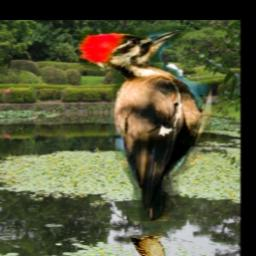Sparrow: (130, 233, 168, 256)
Woodpecker: (78, 26, 217, 221)
